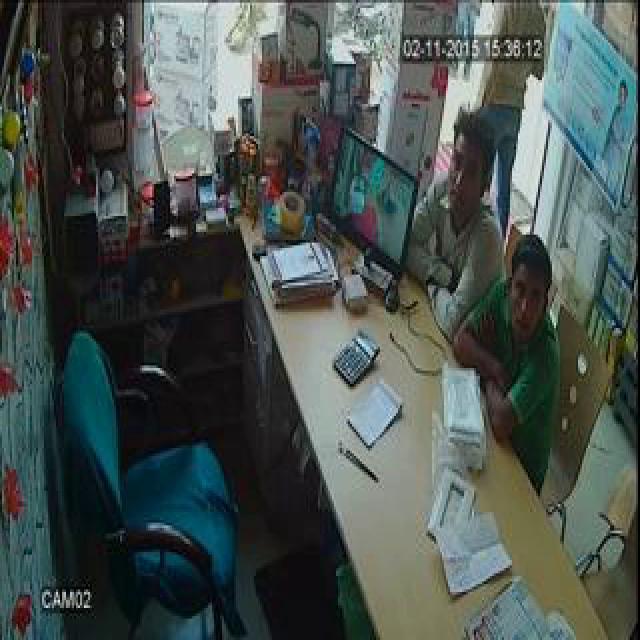shoplifting: (316, 4, 619, 265)
